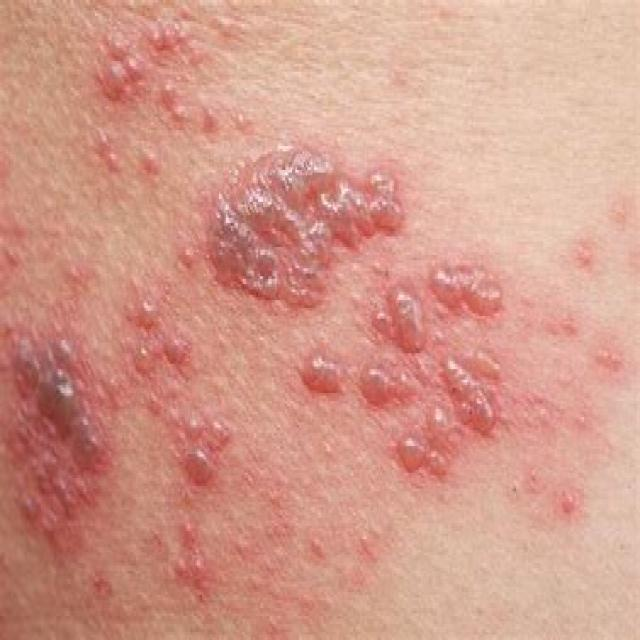Shingles: (0, 23, 504, 613)
